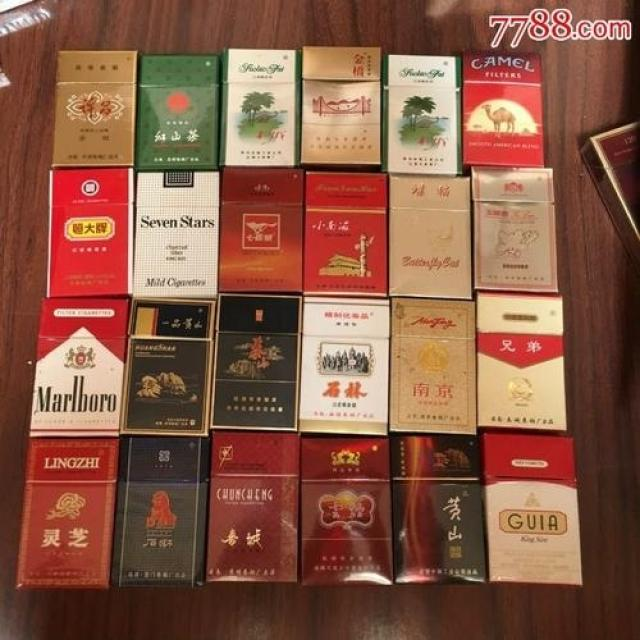box: (14, 436, 119, 591), (480, 434, 584, 589), (110, 435, 209, 589), (389, 435, 488, 588), (298, 433, 394, 588), (28, 297, 132, 438), (206, 430, 300, 584), (119, 297, 218, 436), (475, 291, 568, 436), (209, 293, 303, 431), (298, 296, 390, 435), (389, 297, 479, 435), (46, 166, 136, 297), (133, 170, 221, 298), (218, 166, 306, 293), (387, 174, 474, 300), (302, 170, 388, 297), (470, 168, 558, 292), (51, 50, 140, 168), (381, 52, 463, 175), (219, 46, 301, 168), (300, 46, 381, 169), (136, 54, 220, 172), (461, 50, 544, 169), (580, 119, 639, 271)
